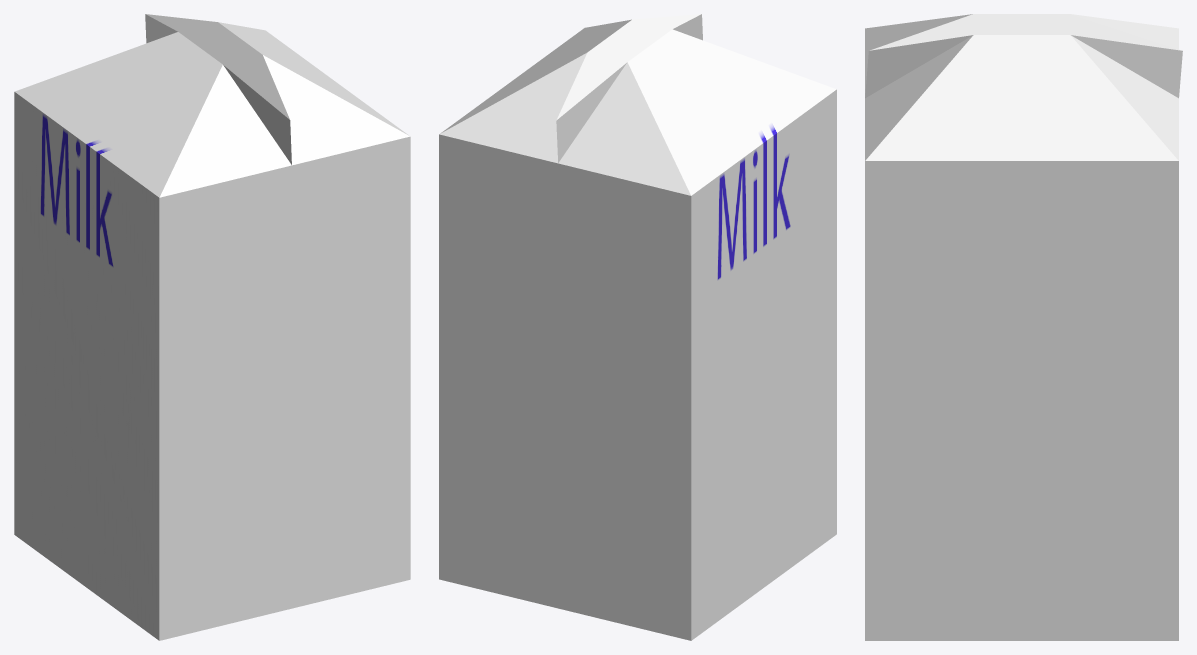
The model's file is CaixaDeLeite1.fbx.
3 views of the same model, side by side, from view 1: azimuth 30°, elevation 25°; view 2: azimuth 150°, elevation 25°; view 3: azimuth 270°, elevation 25° (orthographic). The views are drawn at different scales.
Parts seen in each view (by area): view 1: Cube; view 2: Cube; view 3: Cube.
Boxes of the visible parts, box(x1,y1,x2,y2) form: Cube: box(14, 14, 410, 640); Cube: box(439, 14, 836, 640); Cube: box(865, 14, 1182, 640).
Size of the model in its own units: 200 by 390 by 203.
Materials: 1 (1 with a texture image).
